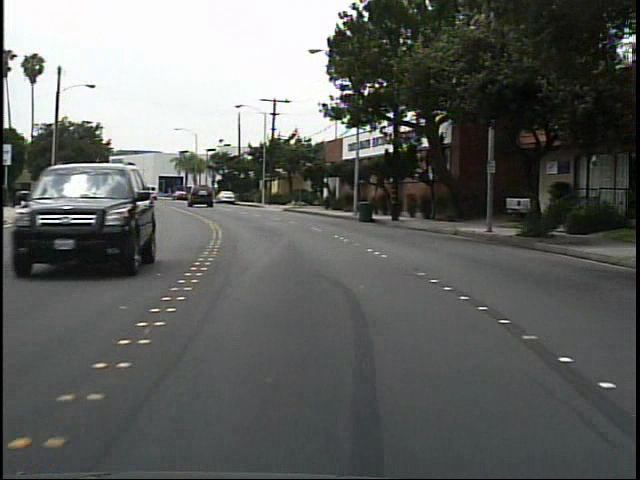person: (8, 178, 28, 211)
